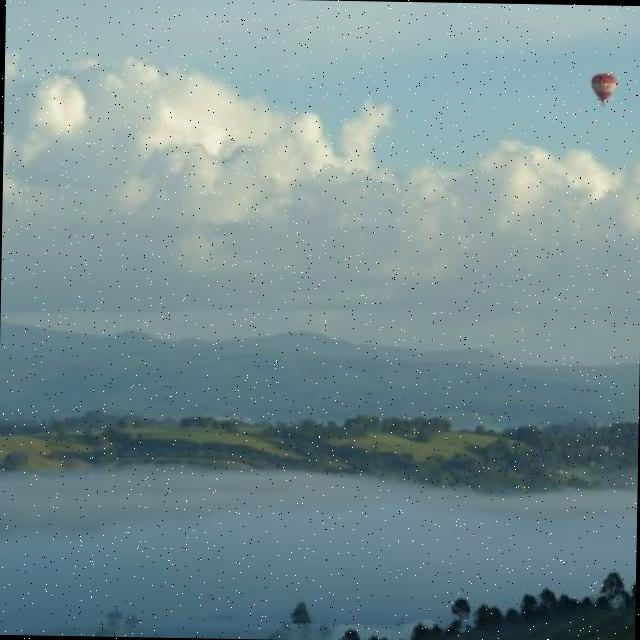Cu: (1, 1, 545, 333)
